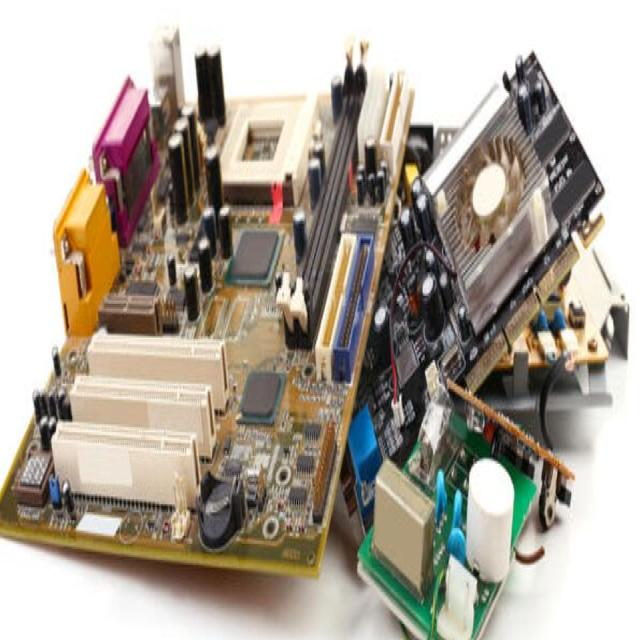electronic: (9, 20, 369, 617), (347, 24, 615, 527), (358, 342, 558, 640)
